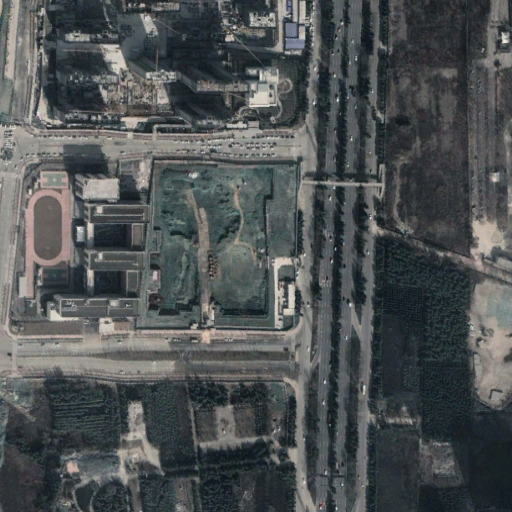cw: (133, 157, 297, 334)
